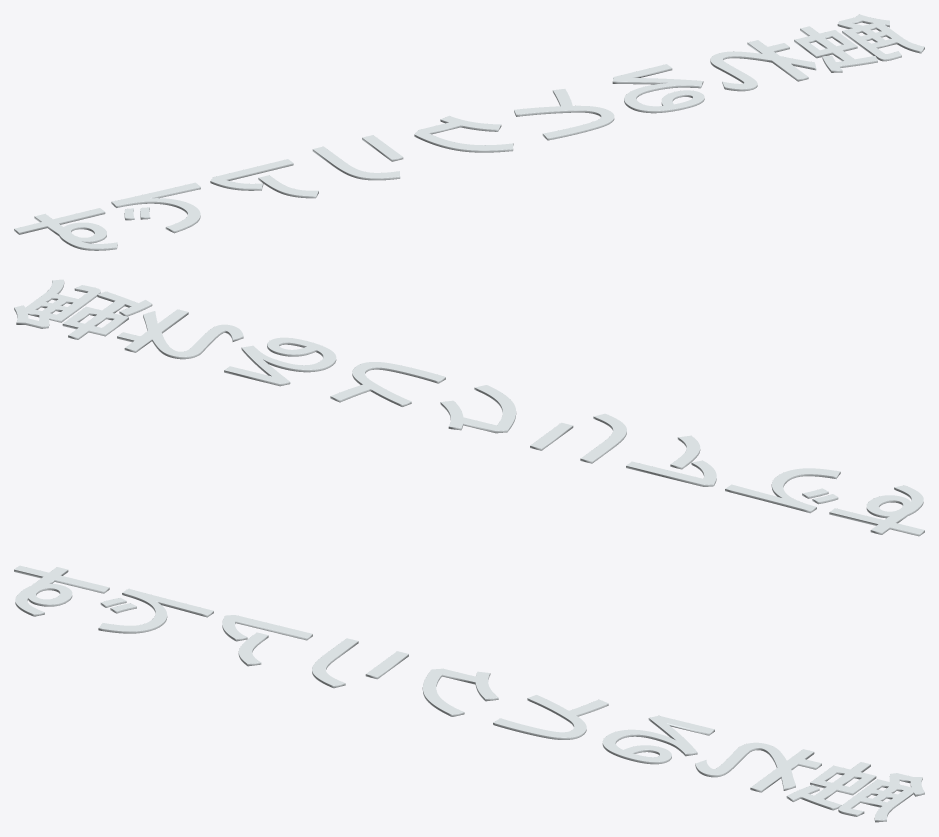
File: stage1_goal_detail.obj
The picture shows the model from 3 angles, top to bottom: view 1: azimuth 30°, elevation 25°; view 2: azimuth 150°, elevation 25°; view 3: azimuth 330°, elevation 25°; orthographic projection. The views are drawn at different scales.
Visible parts, largest first — view 1: stage1_goal_detail; view 2: stage1_goal_detail; view 3: stage1_goal_detail.
Part boxes in pixels (<box>): stage1_goal_detail: <box>14,14,924,250</box>; stage1_goal_detail: <box>14,279,924,536</box>; stage1_goal_detail: <box>14,565,924,822</box>.
Bounding box in the file's own units: 4.3 × 0.0106 × 0.46.
Materials: 1 (1 with a texture image).
